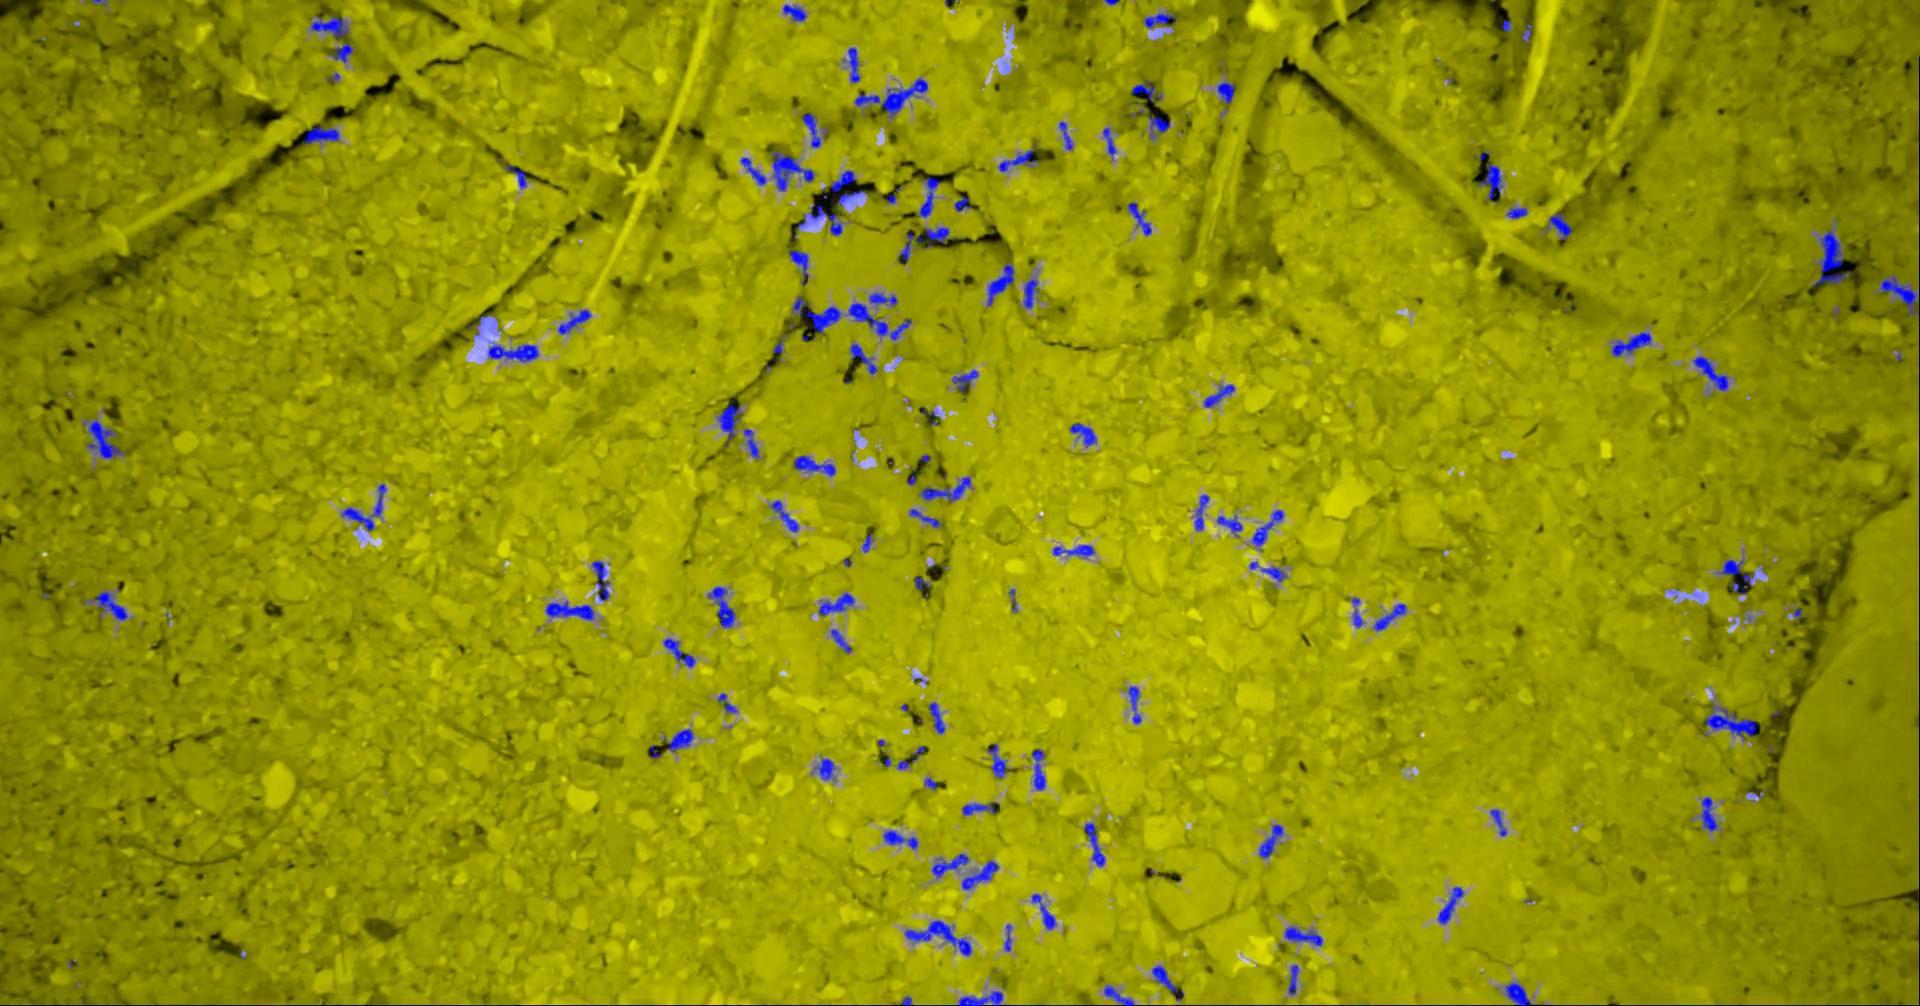ant: (856, 77, 930, 116), (905, 920, 973, 955), (850, 302, 913, 339), (343, 483, 387, 531), (1815, 230, 1851, 285), (792, 295, 842, 333), (1881, 276, 1920, 320), (1707, 705, 1759, 738), (773, 150, 815, 191), (84, 418, 124, 459), (1694, 354, 1730, 390), (922, 476, 971, 500), (709, 586, 737, 627), (1253, 509, 1285, 545), (963, 860, 1001, 889), (989, 262, 1015, 305), (1153, 965, 1185, 1000), (811, 202, 843, 235), (719, 403, 743, 446), (1439, 887, 1465, 923), (1613, 332, 1653, 356), (1084, 822, 1106, 866), (665, 638, 697, 667), (547, 601, 596, 620), (795, 455, 837, 476), (1032, 893, 1058, 929), (1481, 163, 1503, 202), (312, 15, 349, 39), (98, 591, 130, 619), (1375, 603, 1408, 630), (919, 177, 941, 217), (1001, 149, 1039, 171), (559, 309, 593, 334), (933, 854, 971, 876), (989, 743, 1013, 779), (772, 500, 800, 531), (489, 344, 540, 361), (1260, 824, 1285, 857), (1129, 201, 1153, 235), (851, 343, 877, 373), (820, 592, 856, 615), (899, 232, 924, 263), (1286, 926, 1324, 946), (303, 124, 342, 144), (742, 158, 767, 185), (1070, 422, 1098, 447), (593, 560, 611, 600), (1205, 384, 1236, 406), (803, 112, 822, 147), (960, 989, 1004, 1005), (1506, 982, 1535, 1005), (1131, 80, 1162, 102), (885, 829, 919, 848), (1105, 984, 1137, 1005), (1549, 212, 1573, 239), (1032, 748, 1048, 790), (910, 508, 943, 527), (899, 746, 926, 768), (1702, 796, 1719, 831), (844, 47, 861, 83), (669, 728, 695, 751), (952, 370, 979, 391), (1218, 514, 1244, 536), (832, 170, 857, 192), (832, 627, 853, 653), (790, 249, 810, 276), (1054, 544, 1096, 556), (1145, 11, 1177, 28), (505, 164, 528, 187), (1129, 686, 1143, 723), (930, 702, 946, 733), (1196, 494, 1210, 530), (964, 801, 999, 815), (1491, 808, 1509, 836), (1735, 573, 1756, 594), (331, 42, 354, 62), (1150, 116, 1171, 138), (838, 189, 867, 205), (1025, 278, 1040, 307), (783, 4, 808, 22), (1103, 127, 1117, 158), (817, 758, 837, 779), (1060, 121, 1074, 149), (745, 429, 759, 457), (926, 227, 951, 243), (1219, 81, 1237, 103), (870, 292, 899, 305), (719, 694, 738, 713), (1722, 559, 1743, 575), (1352, 597, 1364, 627), (1289, 964, 1300, 995), (1263, 567, 1288, 580), (955, 196, 973, 211), (1004, 923, 1013, 951), (916, 575, 932, 589), (1509, 207, 1528, 218), (1523, 22, 1533, 42), (863, 533, 874, 553), (775, 339, 785, 353)
